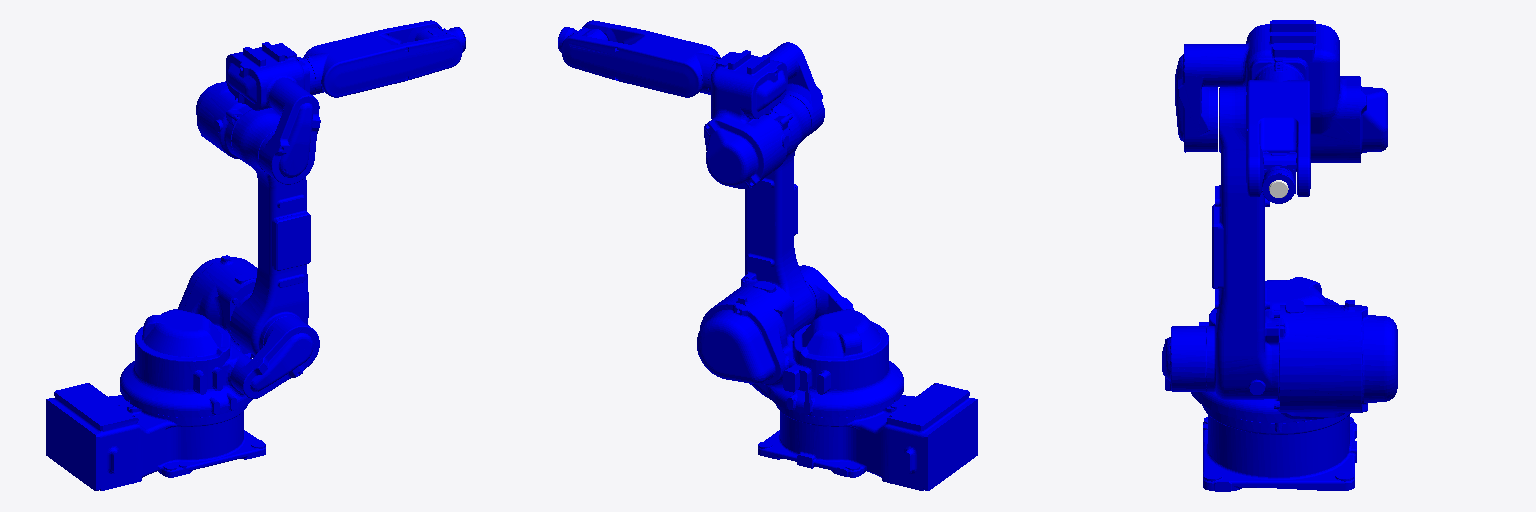
URDF robot description (motoman_epx1250):
<?xml version="1.0" encoding="utf-8"?>
<!-- =================================================================================== -->
<!-- |    This document was autogenerated by xacro from epx1250.xacro                  | -->
<!-- |    EDITING THIS FILE BY HAND IS NOT RECOMMENDED                                 | -->
<!-- =================================================================================== -->
<robot name="motoman_epx1250">
  <!-- link list -->
  <link name="base_link">
    <visual>
      <origin rpy="0 0 0" xyz="0 0 0"/>
      <geometry>
        <mesh filename="./meshes/epx1250/visual/base_link.stl"/>
      </geometry>
      <material name="blue">
        <color rgba="0 0 1 1"/>
      </material>
    </visual>
    <collision>
      <geometry>
        <mesh filename="./meshes/epx1250/collision/base_link.stl"/>
      </geometry>
      <material name="yellow">
        <color rgba="0 1 1 1"/>
      </material>
    </collision>
  </link>
  <link name="link_s">
    <visual>
      <origin rpy="0 0 0" xyz="0 0 0"/>
      <geometry>
        <mesh filename="./meshes/epx1250/visual/link_s.stl"/>
      </geometry>
      <material name="blue"/>
    </visual>
    <collision>
      <origin rpy="0 0 0" xyz="0 0 0"/>
      <geometry>
        <mesh filename="./meshes/epx1250/collision/link_s.stl"/>
      </geometry>
      <material name="yellow"/>
    </collision>
  </link>
  <link name="link_l">
    <visual>
      <origin rpy="0 0 0" xyz="0 0 0"/>
      <geometry>
        <mesh filename="./meshes/epx1250/visual/link_l.stl"/>
      </geometry>
      <material name="blue"/>
    </visual>
    <collision>
      <origin rpy="0 0 0" xyz="0 0 0"/>
      <geometry>
        <mesh filename="./meshes/epx1250/collision/link_l.stl"/>
      </geometry>
      <material name="yellow"/>
    </collision>
  </link>
  <link name="link_u">
    <visual>
      <origin rpy="0 0 0" xyz="0 0 0"/>
      <geometry>
        <mesh filename="./meshes/epx1250/visual/link_u.stl"/>
      </geometry>
      <material name="blue"/>
    </visual>
    <collision>
      <origin rpy="0 0 0" xyz="0 0 0"/>
      <geometry>
        <mesh filename="./meshes/epx1250/collision/link_u.stl"/>
      </geometry>
      <material name="yellow"/>
    </collision>
  </link>
  <link name="link_r">
    <visual>
      <origin rpy="0 0 0" xyz="0.520 0 0"/>
      <geometry>
        <mesh filename="./meshes/epx1250/visual/link_r.stl"/>
      </geometry>
      <material name="blue"/>
    </visual>
    <collision>
      <origin rpy="0 0 0" xyz="0.520 0 0"/>
      <geometry>
        <mesh filename="./meshes/epx1250/collision/link_r.stl"/>
      </geometry>
      <material name="yellow"/>
    </collision>
  </link>
  <link name="link_b">
    <visual>
      <origin rpy="0 0 0" xyz="0 0 0"/>
      <geometry>
        <mesh filename="./meshes/epx1250/visual/link_b.stl"/>
      </geometry>
      <material name="blue"/>
    </visual>
    <collision>
      <origin rpy="0 0 0" xyz="0 0 0"/>
      <geometry>
        <mesh filename="./meshes/epx1250/collision/link_b.stl"/>
      </geometry>
      <material name="yellow"/>
    </collision>
  </link>
  <link name="link_t">
    <visual>
      <origin rpy="0 0 0" xyz="0 0 0"/>
      <geometry>
        <mesh filename="./meshes/epx1250/visual/link_t.stl"/>
      </geometry>
      <material name="black">
        <color rgba="1 1 1 1"/>
      </material>
    </visual>
    <collision>
      <origin rpy="0 0 0" xyz="0 0 0"/>
      <geometry>
        <mesh filename="./meshes/epx1250/collision/link_t.stl"/>
      </geometry>
      <material name="black"/>
    </collision>
  </link>
  <link name="tool0"/>
  <!-- end of link list -->
  <!-- joint list -->
  <joint name="joint_s" type="revolute">
    <origin rpy="0 0 0" xyz="0 0 0.310"/>
    <parent link="base_link"/>
    <child link="link_s"/>
    <axis xyz="0 0 1"/>
    <limit effort="0" lower="-2.96705972839" upper="2.96705972839" velocity="3.22885911619"/>
  </joint>
  <joint name="joint_l" type="revolute">
    <origin rpy="0 0 0" xyz="0.200 0 0"/>
    <parent link="link_s"/>
    <child link="link_l"/>
    <axis xyz="0 1 0"/>
    <limit effort="0" lower="-1.1344640138" upper="2.09439510239" velocity="3.22885911619"/>
  </joint>
  <joint name="joint_u" type="revolute">
    <origin rpy="0 0 0" xyz="0 0 0.520"/>
    <parent link="link_l"/>
    <child link="link_u"/>
    <axis xyz="0 1 0"/>
    <limit effort="0" lower="-2.87979326579" upper="3.57792496659" velocity="3.22885911619"/>
  </joint>
  <joint name="joint_r" type="revolute">
    <origin rpy="0 0 0" xyz="0 0 0.130"/>
    <parent link="link_u"/>
    <child link="link_r"/>
    <axis xyz="1 0 0"/>
    <limit effort="0" lower="-3.31612557879" upper="3.31612557879" velocity="6.28318530718"/>
  </joint>
  <joint name="joint_b" type="revolute">
    <origin rpy="0 0 0" xyz="0.520 0 0"/>
    <parent link="link_r"/>
    <child link="link_b"/>
    <axis xyz="0 1 0"/>
    <limit effort="0" lower="-2.53072741539" upper="2.53072741539" velocity="7.15584993318"/>
  </joint>
  <joint name="joint_t" type="revolute">
    <origin rpy="0 0 0" xyz="0.0865 0 0"/>
    <parent link="link_b"/>
    <child link="link_t"/>
    <axis xyz="1 0 0"/>
    <limit effort="0" lower="-6.28318530718" upper="6.28318530718" velocity="8.72664625997"/>
  </joint>
  <joint name="joint_t-tool0" type="fixed">
    <origin rpy="0 1.57079632679 0" xyz="0 0 0"/>
    <parent link="link_t"/>
    <child link="tool0"/>
  </joint>
  <!-- end of joint list -->
  <!-- ROS base_link to Robot Manufacturer World Coordinates transform -->
  <link name="base"/>
  <joint name="base_link-base" type="fixed">
    <origin rpy="0 0 0" xyz="0 0 0.310"/>
    <parent link="base_link"/>
    <child link="base"/>
  </joint>
</robot>

--- Render facts (derived) ---
The picture shows the robot from 3 angles, left to right: view 1: azimuth 30°, elevation 25°; view 2: azimuth 150°, elevation 25°; view 3: azimuth 270°, elevation 25°; orthographic projection.
Model motoman_epx1250 with 9 links and 8 joints (6 revolute, 2 fixed), rooted at base_link, posed every joint at zero.
Links seen in each view (by area): view 1: link_s, base_link, link_u, link_l, link_r; view 2: link_s, base_link, link_u, link_l, link_r; view 3: link_s, link_u, link_l, base_link, link_r, link_b.
Link boxes in pixels (bbox=[...]): link_s: bbox=[120, 255, 319, 416]; base_link: bbox=[46, 383, 265, 490]; link_u: bbox=[196, 42, 320, 184]; link_l: bbox=[230, 108, 310, 355]; link_r: bbox=[303, 20, 462, 97]; link_s: bbox=[697, 265, 903, 416]; base_link: bbox=[758, 383, 977, 490]; link_u: bbox=[704, 42, 824, 188]; link_l: bbox=[744, 95, 815, 337]; link_r: bbox=[561, 20, 720, 97]; link_s: bbox=[1162, 277, 1397, 431]; link_u: bbox=[1175, 20, 1387, 171]; link_l: bbox=[1207, 87, 1278, 399]; base_link: bbox=[1202, 405, 1356, 491]; link_r: bbox=[1246, 67, 1310, 196]; link_b: bbox=[1262, 153, 1295, 203].
Bounding box of the posed robot: 1.16 × 0.4635 × 1.05 m (x, y, z).
Meshes: 7 distinct files referenced, 7 mesh visuals loaded (7 binary STL).